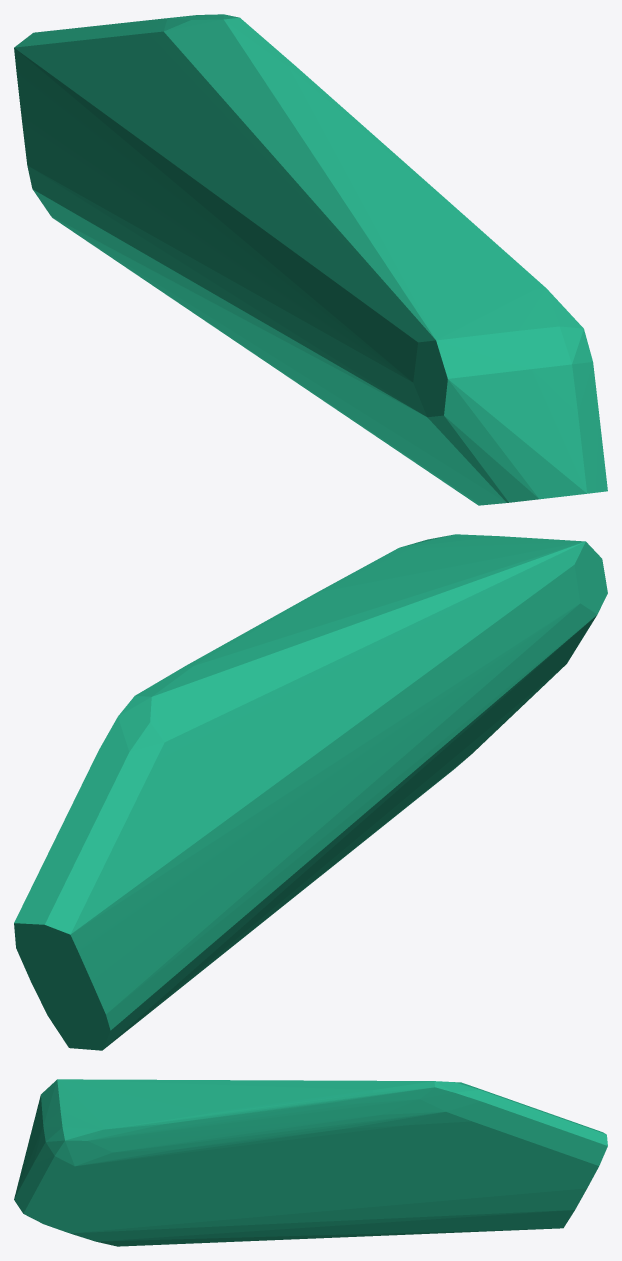
The model's file is converted_Downdraft_Assy_collision_85_26b78fff.obj.
The picture shows the model from 3 angles, top to bottom: view 1: azimuth 30°, elevation 25°; view 2: azimuth 150°, elevation 25°; view 3: azimuth 270°, elevation 25°; orthographic projection. The views are drawn at different scales.
Bounding box in the file's own units: 0.0593 × 0.0942 × 0.3109.
